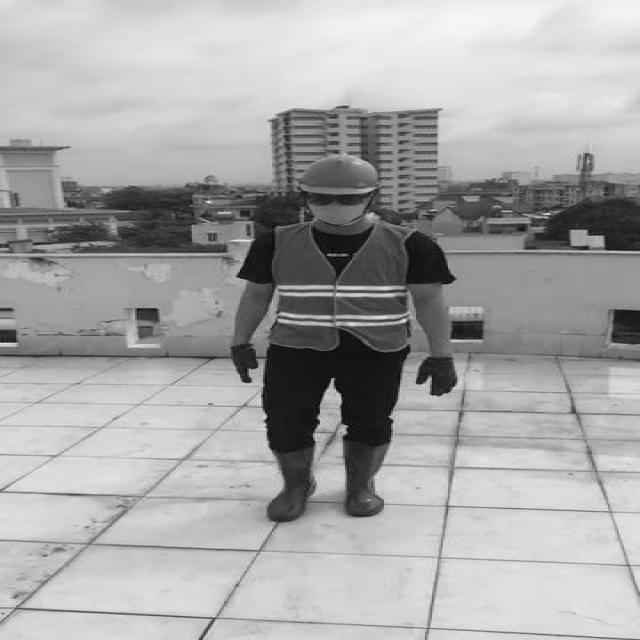boots: (263, 443, 317, 521), (338, 442, 391, 518)
face_mask: (306, 186, 370, 223)
glasses: (305, 190, 371, 208)
hand_glove: (416, 356, 460, 397), (233, 343, 258, 386)
head_helmet: (296, 152, 380, 196)
person: (212, 148, 466, 528)
vest: (270, 223, 420, 349)
